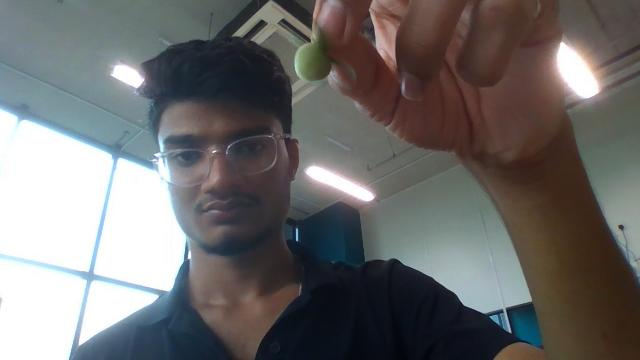Fruit Maturation: (293, 39, 331, 83)
